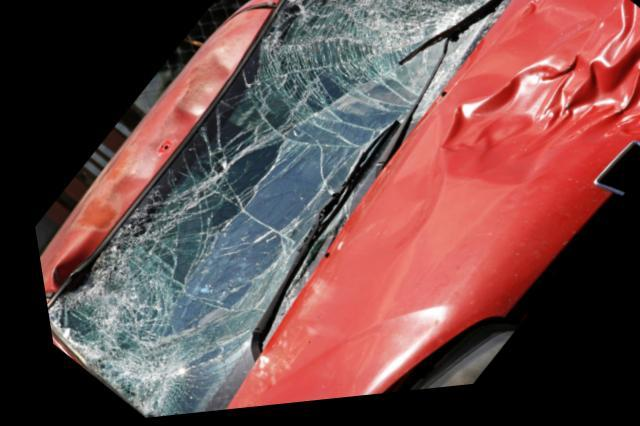dent: (286, 0, 640, 385), (40, 37, 242, 289)
glass shatter: (38, 0, 516, 419)
